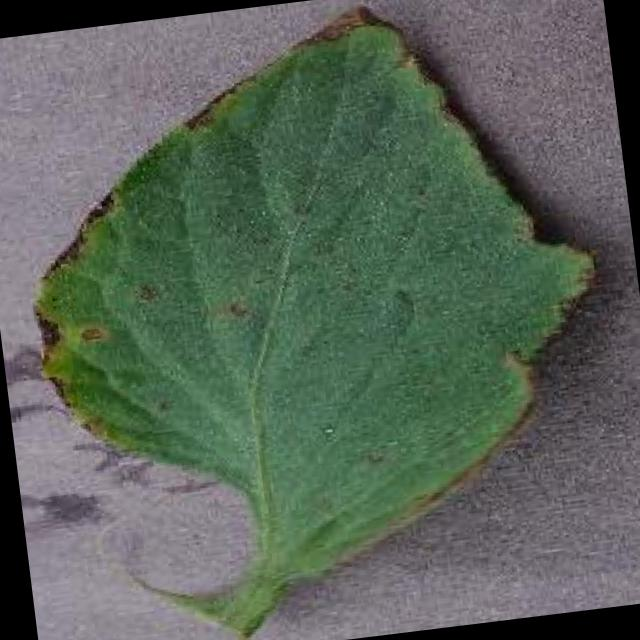bacterial spot: (21, 8, 594, 629)
